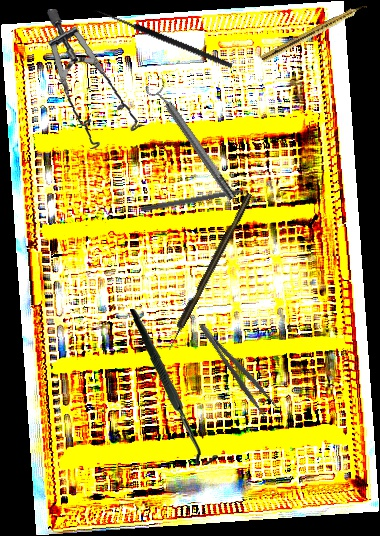Dressing Forceps: (196, 316, 280, 420)
Fixation Ring: (143, 75, 242, 206)
Handpiece: (260, 1, 369, 65)
Hook Surgical: (122, 308, 226, 466), (164, 192, 254, 351), (90, 6, 234, 76), (140, 185, 259, 214)
Speculum: (32, 8, 155, 154)
